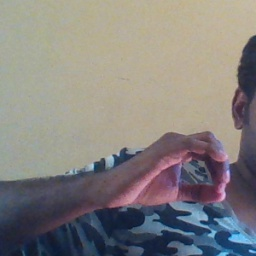O: (123, 126, 237, 218)
